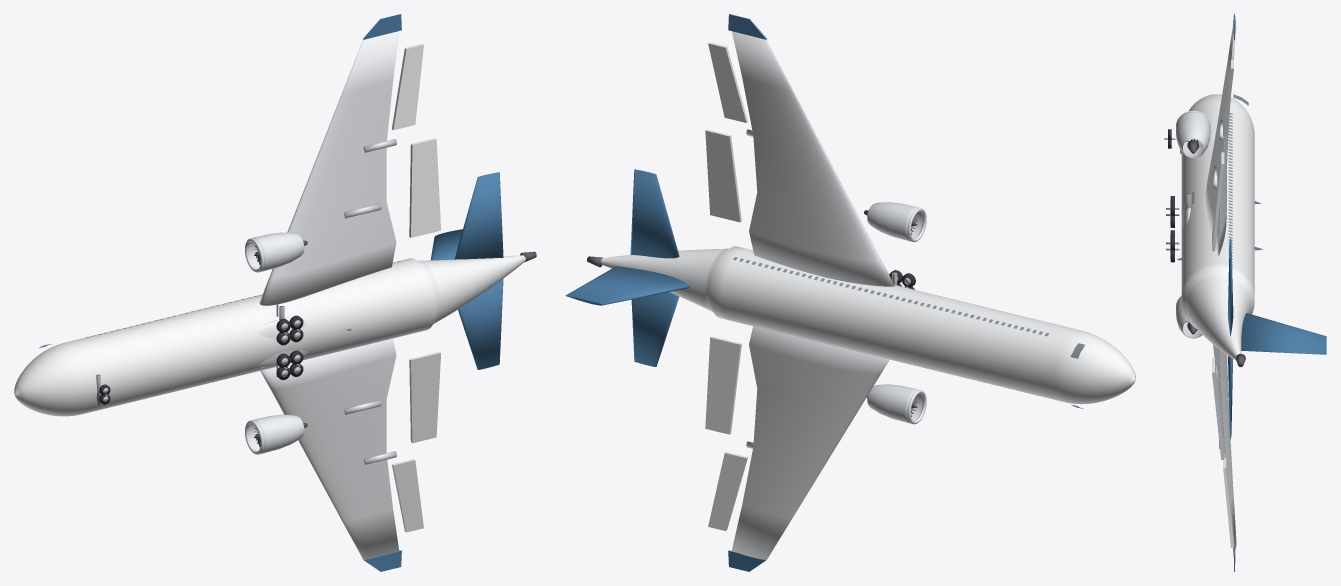
3 renders of one model, left to right at view 1: azimuth 30°, elevation 25°; view 2: azimuth 150°, elevation 25°; view 3: azimuth 270°, elevation 25°, orthographic.
Visible parts, largest first — view 1: Fuselage, Wing_R, Wing_L, HStab_R, Flap_R, HStab_L, Flap_L, Aileron_R, Aileron_L, Nacelle_1_0, Nacelle_-1_0, Fin (+1 smaller); view 2: Fuselage, Wing_R, Wing_L, HStab_R, Fin, Flap_L, Flap_R, HStab_L, Aileron_L, Aileron_R, Nacelle_1_0, Nacelle_-1_0; view 3: Fuselage, Fin, Wing_R, Wing_L, Nacelle_1_0, Flap_L, Flap_R, HStab_R, Aileron_L, Nacelle_-1_0, Aileron_R, Windows_1_70 (+1 smaller).
Part boxes in pixels (x1,y1,x2,y2): Fuselage: (14,255,525,416); Wing_R: (259,31,399,305); Wing_L: (260,338,399,559); HStab_R: (454,172,503,259); Flap_R: (409,138,440,237); HStab_L: (458,279,503,369); Flap_L: (409,352,440,443); Aileron_R: (392,44,423,130); Aileron_L: (392,459,423,532); Nacelle_1_0: (248,232,304,271); Nacelle_-1_0: (248,414,304,453); Fin: (431,229,462,260); Fuselage: (601,246,1135,404); Wing_R: (732,31,894,286); Wing_L: (731,326,889,559); HStab_R: (630,169,679,258); Fin: (565,266,689,305); Flap_L: (705,336,741,434); Flap_R: (705,129,741,222); HStab_L: (631,292,679,366); Aileron_L: (708,452,747,530); Aileron_R: (708,42,747,122); Nacelle_1_0: (867,202,923,241); Nacelle_-1_0: (867,384,923,423); Fuselage: (1181,94,1254,360); Fin: (1241,313,1326,354); Wing_R: (1204,23,1236,256); Wing_L: (1213,344,1236,554); Nacelle_1_0: (1176,111,1210,157); Flap_L: (1212,358,1224,459); Flap_R: (1212,152,1224,251); HStab_R: (1227,238,1233,336); Aileron_L: (1223,457,1233,547); Nacelle_-1_0: (1176,296,1202,338); Aileron_R: (1223,60,1233,135); Windows_1_70: (1228,113,1232,265).
Size of the model in its own units: 47.08 by 46.61 by 12.51.
